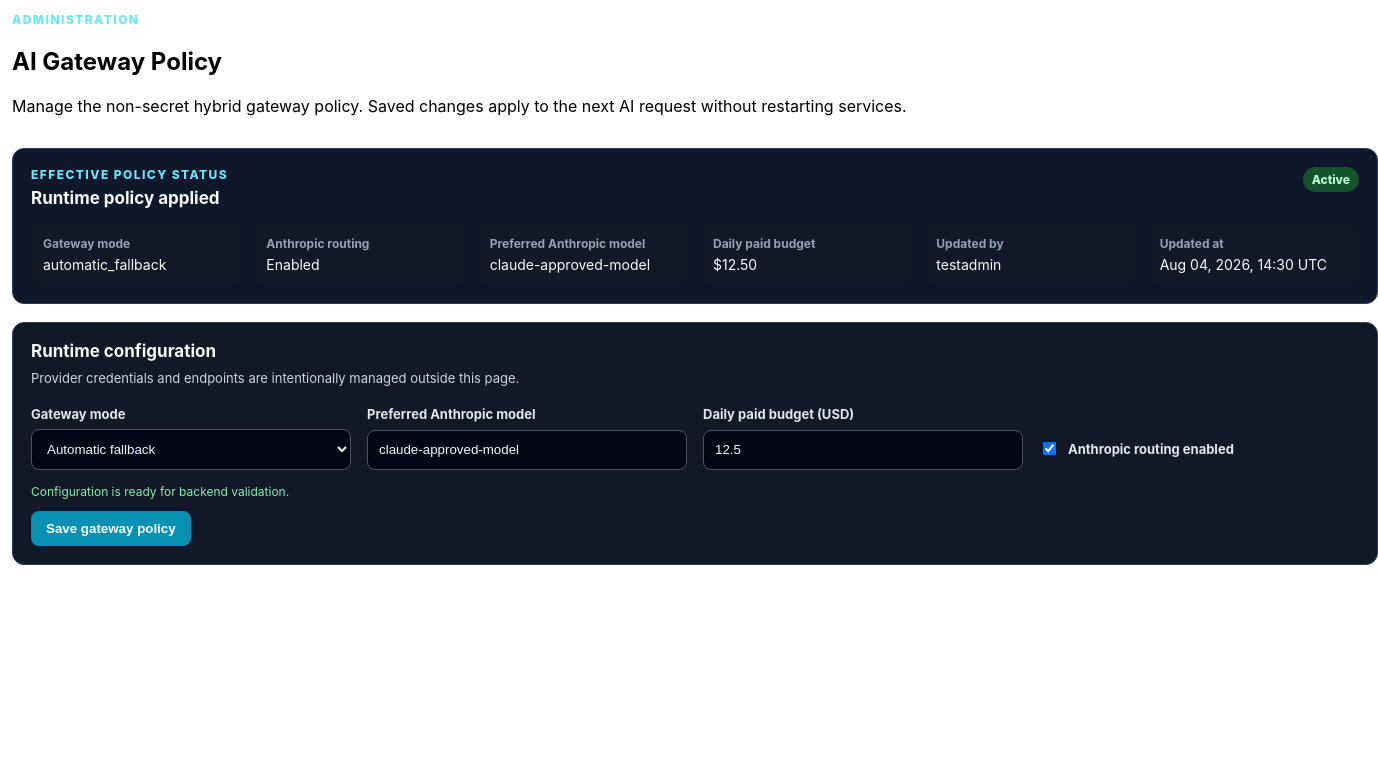
Test case: saves a validated policy and announces next-request effect
The image size is (1378, 780).
Select "Local only" in the dropdown labelled "Gateway mode" at {"x": 191, "y": 450}, box [31, 429, 351, 470]
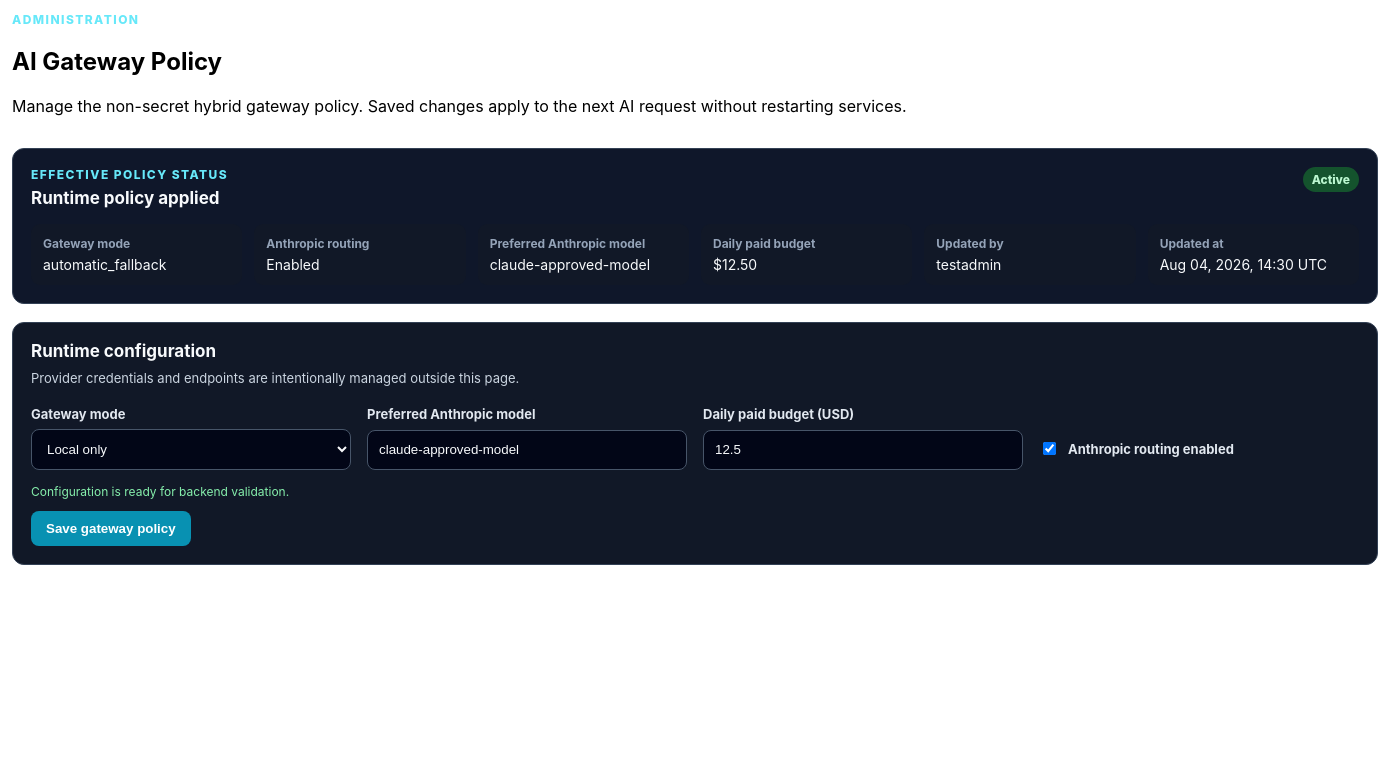
Click the checkbox labelled "Anthropic routing enabled" at {"x": 1050, "y": 449}, box [1043, 442, 1056, 456]
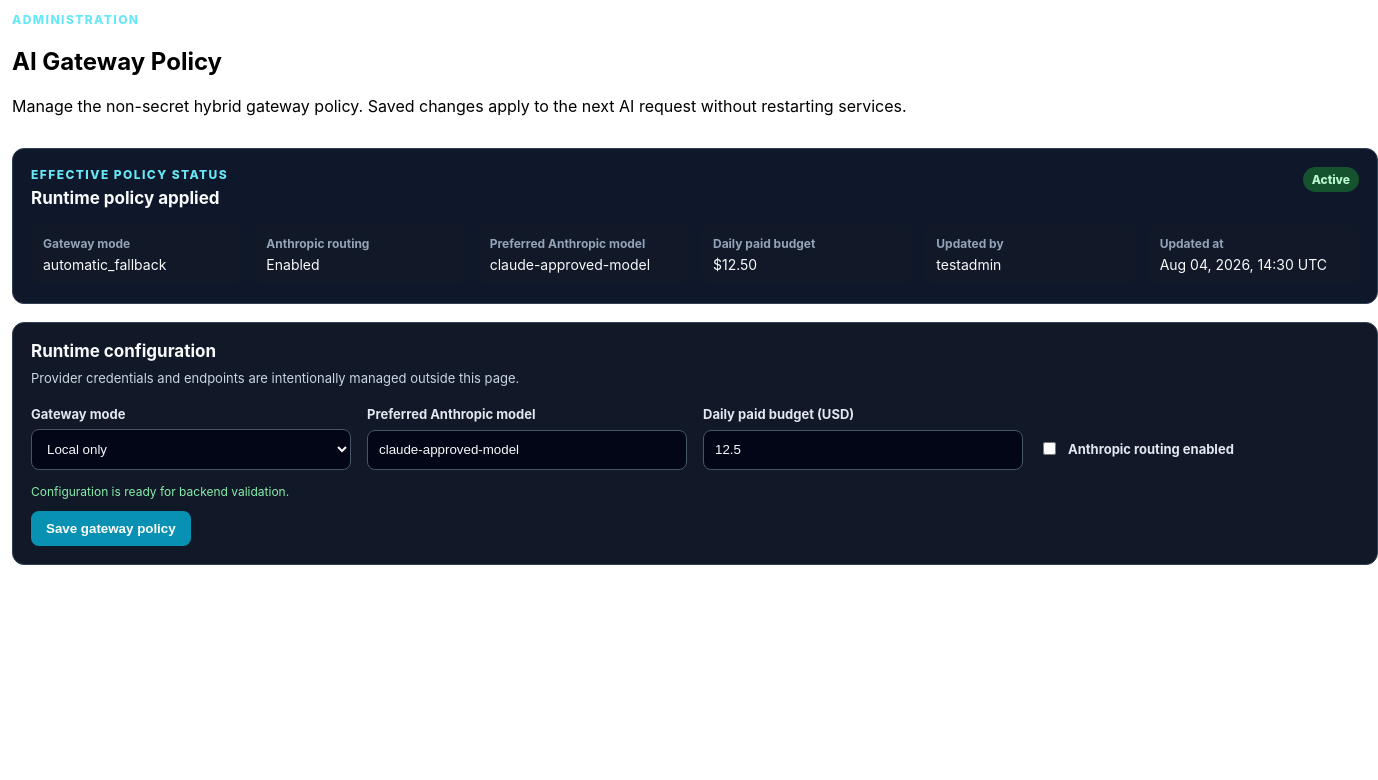
Replace the text in the field labelled "Preferred Anthropic model" with "claude-next-model" at {"x": 527, "y": 450}, box [367, 430, 687, 470]
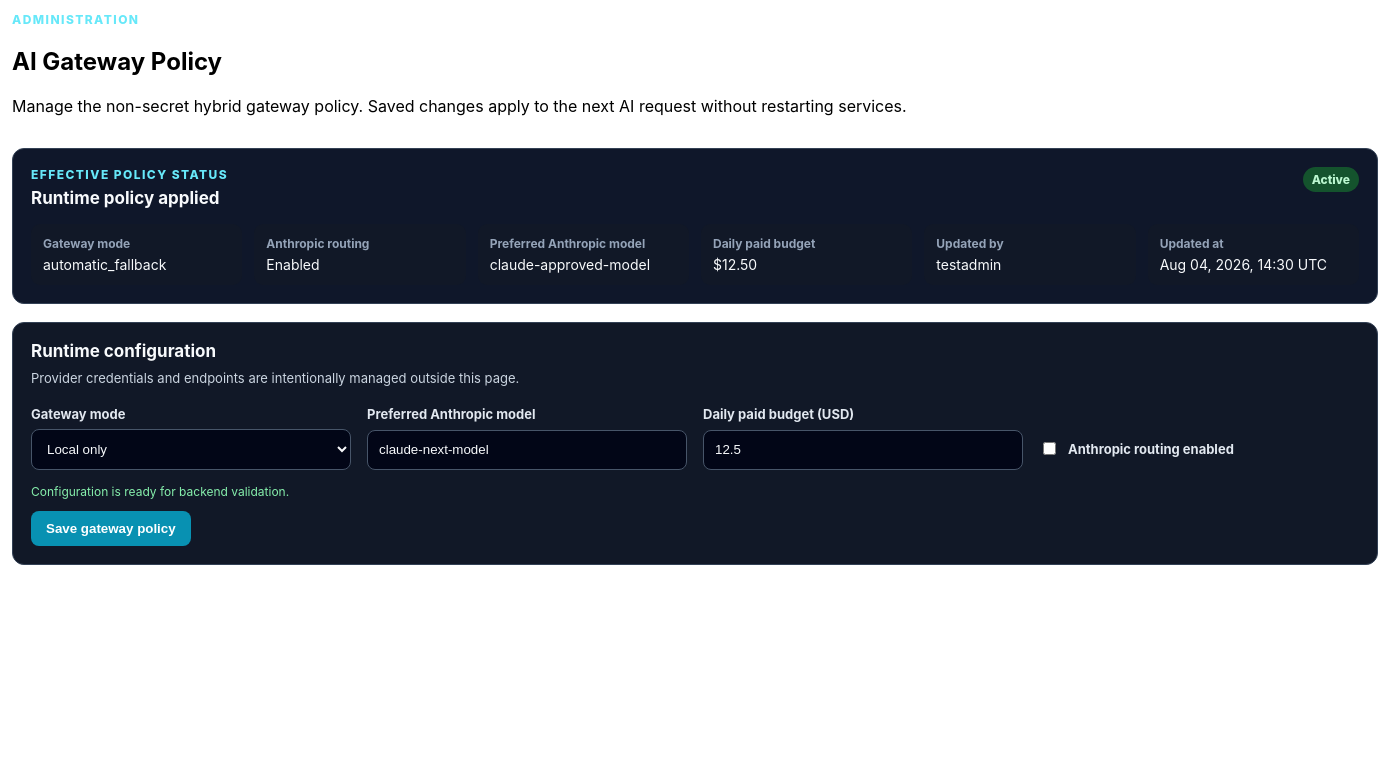
Replace the text in the number field labelled "Daily paid budget (USD)" with "8" at {"x": 863, "y": 450}, box [703, 430, 1023, 470]
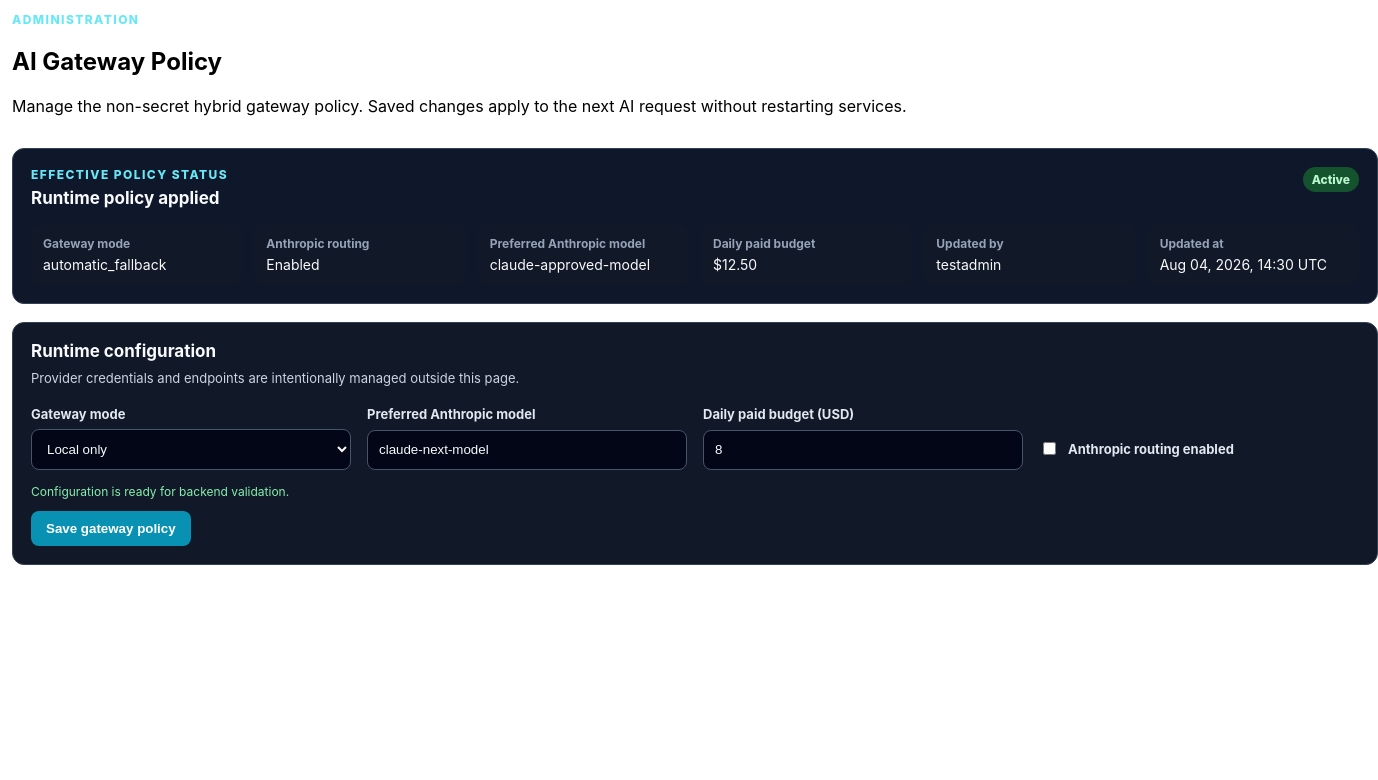
Click the button "Save gateway policy" at {"x": 111, "y": 528}, box [31, 511, 191, 546]
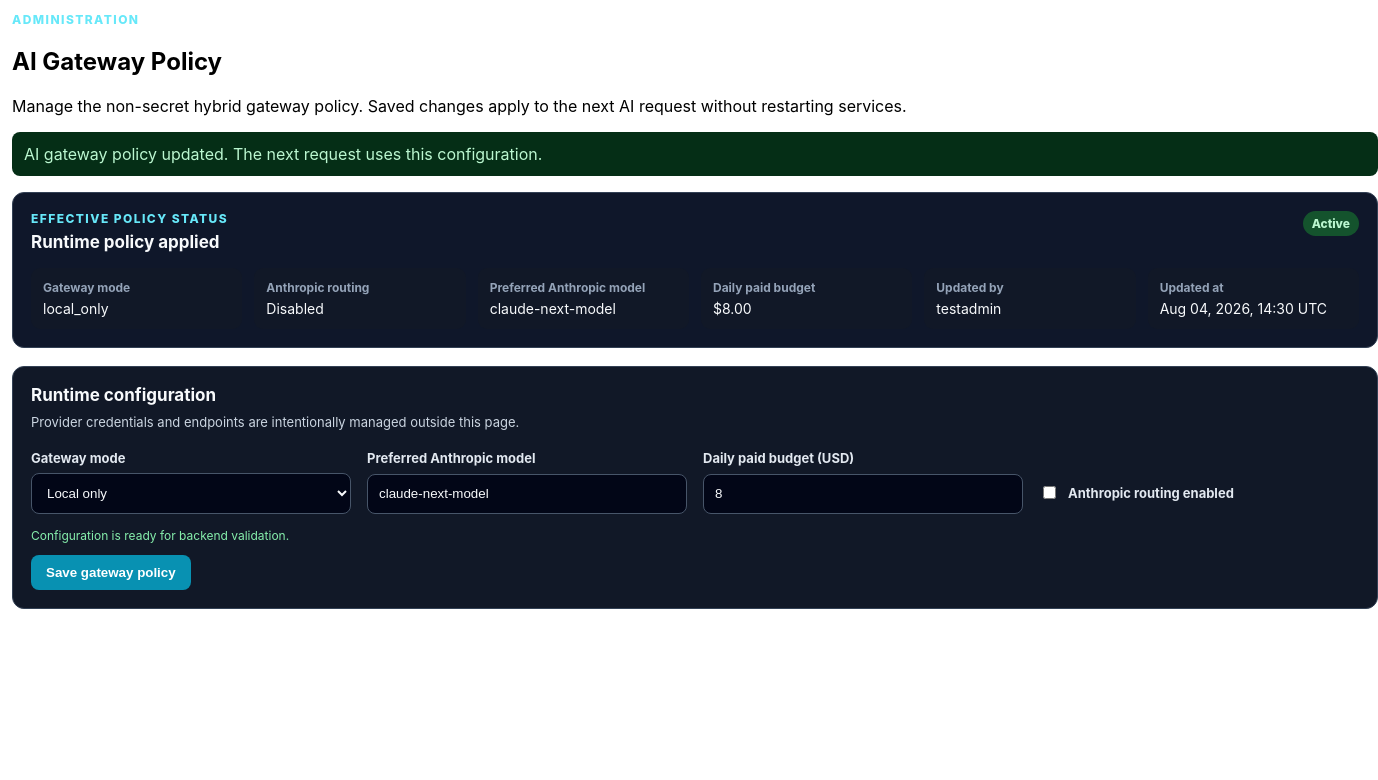
Now the message shows "next request uses this configuration", box [24, 144, 542, 164]
